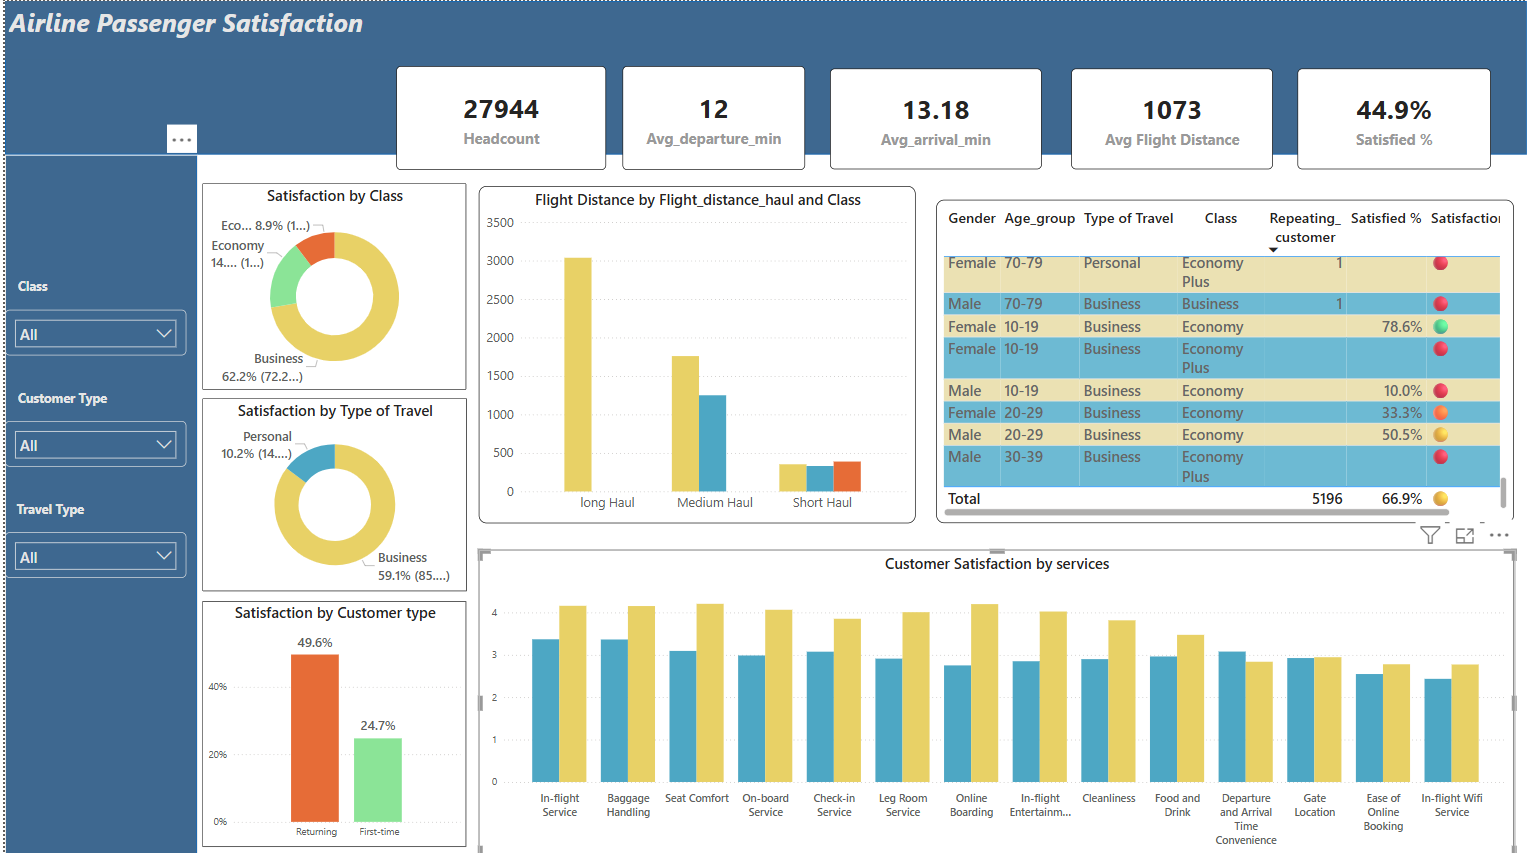

The page's visual inventory and layout, read from the dashboard file:
{"tool":"powerbi","page":{"name":"Page 1","canvas":[1920,1080],"ordinal":0},"visuals":[{"type":"shape","box":[0,0,1920.4,193.6],"z":0},{"type":"card","fields":{"Values":["_measures.Headcount"]},"box":[493.6,82,265.1,130.8],"z":1000},{"type":"card","fields":{"Values":["_measures.Avg_departure_min"]},"box":[779.7,82,230.2,130.8],"z":2000},{"type":"card","fields":{"Values":["_measures.Avg_arrival_min"]},"box":[1041.3,85.5,266.9,127.3],"z":3000},{"type":"shape","box":[0,193.6,242.4,886],"z":4000},{"type":"donutChart","title":"Satisfaction by Class","fields":{"Category":["Airline_p_s.Class"],"Y":["_measures.Satisfied %"]},"box":[249.2,230.3,332.8,260.2],"z":5000},{"type":"donutChart","title":" Satisfaction by Type of Travel","fields":{"Category":["Airline_p_s.Type of Travel"],"Y":["_measures.Satisfied %"]},"box":[249.1,502.2,333.4,242.9],"z":6000},{"type":"columnChart","title":"Satisfaction by Customer type","fields":{"Category":["Airline_p_s.Customer Type"],"Y":["_measures.Satisfied %"]},"box":[249.4,757,333.1,310.5],"z":7000},{"type":"card","fields":{"Values":["_measures.Avg Flight Distance"]},"box":[1344.8,85.5,254.7,127.3],"z":8000},{"type":"tableEx","fields":{"Values":["Airline_p_s.Gender","Airline_p_s.Age_group","Airline_p_s.Type of Travel","Airline_p_s.Class","_measures.Repeating_customer","_measures.Satisfied %","_measures.Satisfaction Status"]},"box":[1175.6,251.2,729.1,408.1],"z":9000},{"type":"clusteredColumnChart","title":"Flight Distance by Flight_distance_haul and Class","fields":{"Category":["Airline_p_s.Flight_distance_haul"],"Y":["_measures.Avg Flight Distance"],"Series":["Airline_p_s.Class"]},"box":[598.3,233.7,551.2,425.6],"z":10000},{"type":"clusteredColumnChart","title":"Customer Satisfaction by services","fields":{"Category":["Airline_p_s.Attribute"],"Y":["Avg(Airline_p_s.Value)"],"Series":["Airline_p_s.Satisfaction"]},"box":[598.3,692.4,1306.4,387.2],"z":11000},{"type":"card","fields":{"Values":["_measures.Satisfied %"]},"box":[1630.8,85.5,244.2,127.3],"z":12000},{"type":"textbox","box":[0,0,483.1,73.3],"z":13000},{"type":"slicer","fields":{"Values":["Airline_p_s.Class"]},"box":[0,389,228.5,57.6],"z":14000},{"type":"textbox","box":[10.5,343.6,111.6,36.6],"z":15000},{"type":"slicer","fields":{"Values":["Airline_p_s.Customer Type"]},"box":[-0.5,530.1,228.5,57.6],"z":16000},{"type":"textbox","box":[10.5,484.9,136,45.3],"z":17000},{"type":"slicer","fields":{"Values":["Airline_p_s.Type of Travel"]},"box":[-0.5,669.7,228.5,57.6],"z":18000},{"type":"textbox","box":[10,624.3,111.6,36.6],"z":19000}]}

Visuals, with their boxes in screenshot pixels (x1, y1, x2, y2), scaled from the page's 1920x1080 canvas onto the 1527x853 screenshot:
shape: rect(0, 0, 1526, 153)
card - _measures.Headcount: rect(393, 65, 603, 168)
card - _measures.Avg_departure_min: rect(620, 65, 803, 168)
card - _measures.Avg_arrival_min: rect(828, 68, 1040, 168)
shape: rect(0, 153, 193, 852)
"Satisfaction by Class" donutChart: rect(198, 182, 463, 387)
" Satisfaction by Type of Travel" donutChart: rect(198, 397, 463, 588)
"Satisfaction by Customer type" columnChart: rect(198, 598, 463, 843)
card - _measures.Avg Flight Distance: rect(1070, 68, 1272, 168)
tableEx - Airline_p_s.Gender x Airline_p_s.Age_group: rect(935, 198, 1515, 521)
"Flight Distance by Flight_distance_haul and Class" clusteredColumnChart: rect(476, 185, 914, 521)
"Customer Satisfaction by services" clusteredColumnChart: rect(476, 547, 1515, 852)
card - _measures.Satisfied %: rect(1297, 68, 1491, 168)
textbox: rect(0, 0, 384, 58)
slicer - Airline_p_s.Class: rect(0, 307, 182, 353)
textbox: rect(8, 271, 97, 300)
slicer - Airline_p_s.Customer Type: rect(0, 419, 181, 464)
textbox: rect(8, 383, 117, 419)
slicer - Airline_p_s.Type of Travel: rect(0, 529, 181, 574)
textbox: rect(8, 493, 97, 522)
